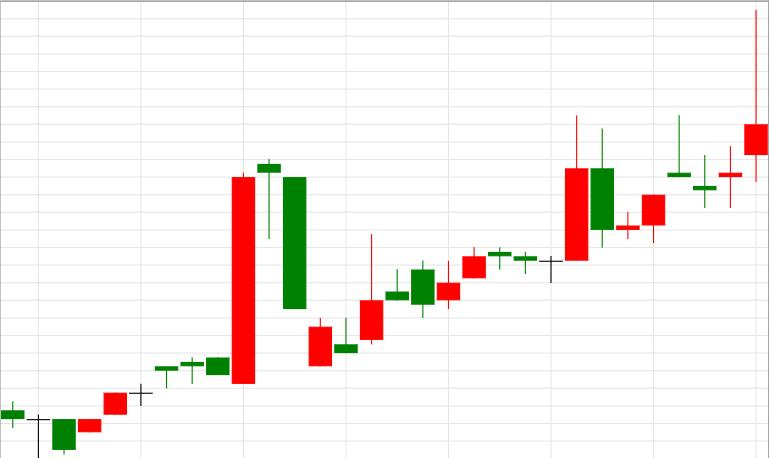evening_star_fall: (79, 159, 306, 434)
